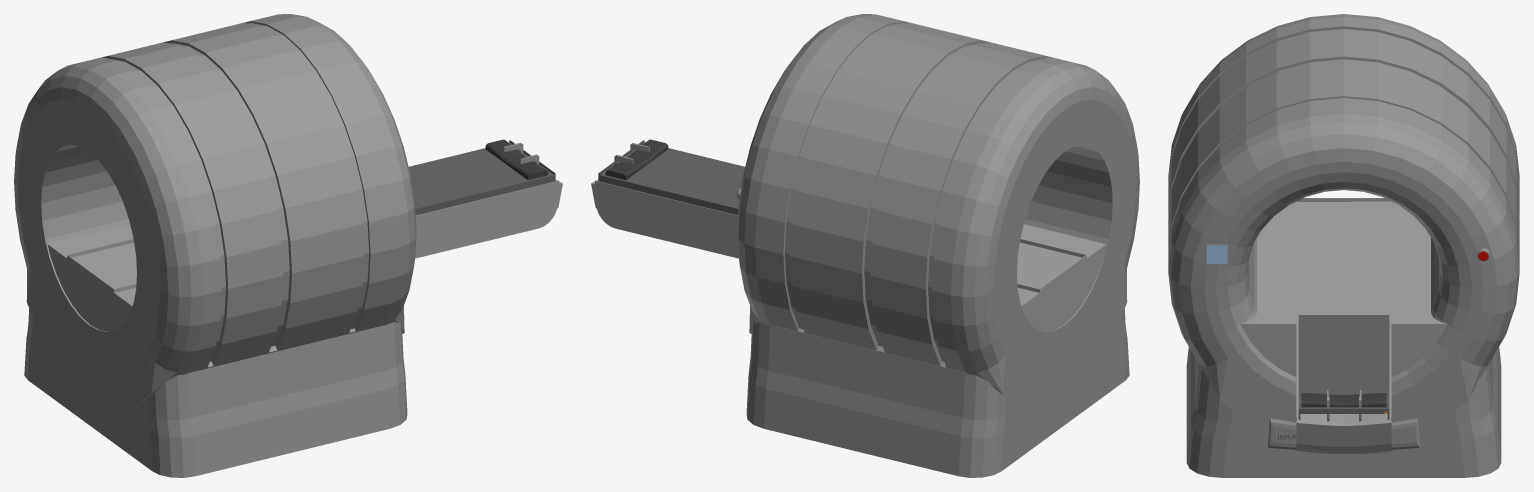
File: irm.obj
3 renders of one model, left to right at view 1: azimuth 30°, elevation 25°; view 2: azimuth 150°, elevation 25°; view 3: azimuth 270°, elevation 25°, orthographic.
Parts seen in each view (by area): view 1: base, bed; view 2: base, bed; view 3: base, bed.
Boxes of the visible parts, bbox=[...] form: base: bbox=[14, 14, 562, 477]; bed: bbox=[408, 139, 555, 215]; base: bbox=[591, 14, 1139, 477]; bed: bbox=[598, 139, 745, 215]; base: bbox=[1168, 14, 1519, 477]; bed: bbox=[1298, 315, 1389, 419].
Bounding box in the file's own units: 4.33 × 3.17 × 2.89.
Materials: 1 (1 with a texture image).
